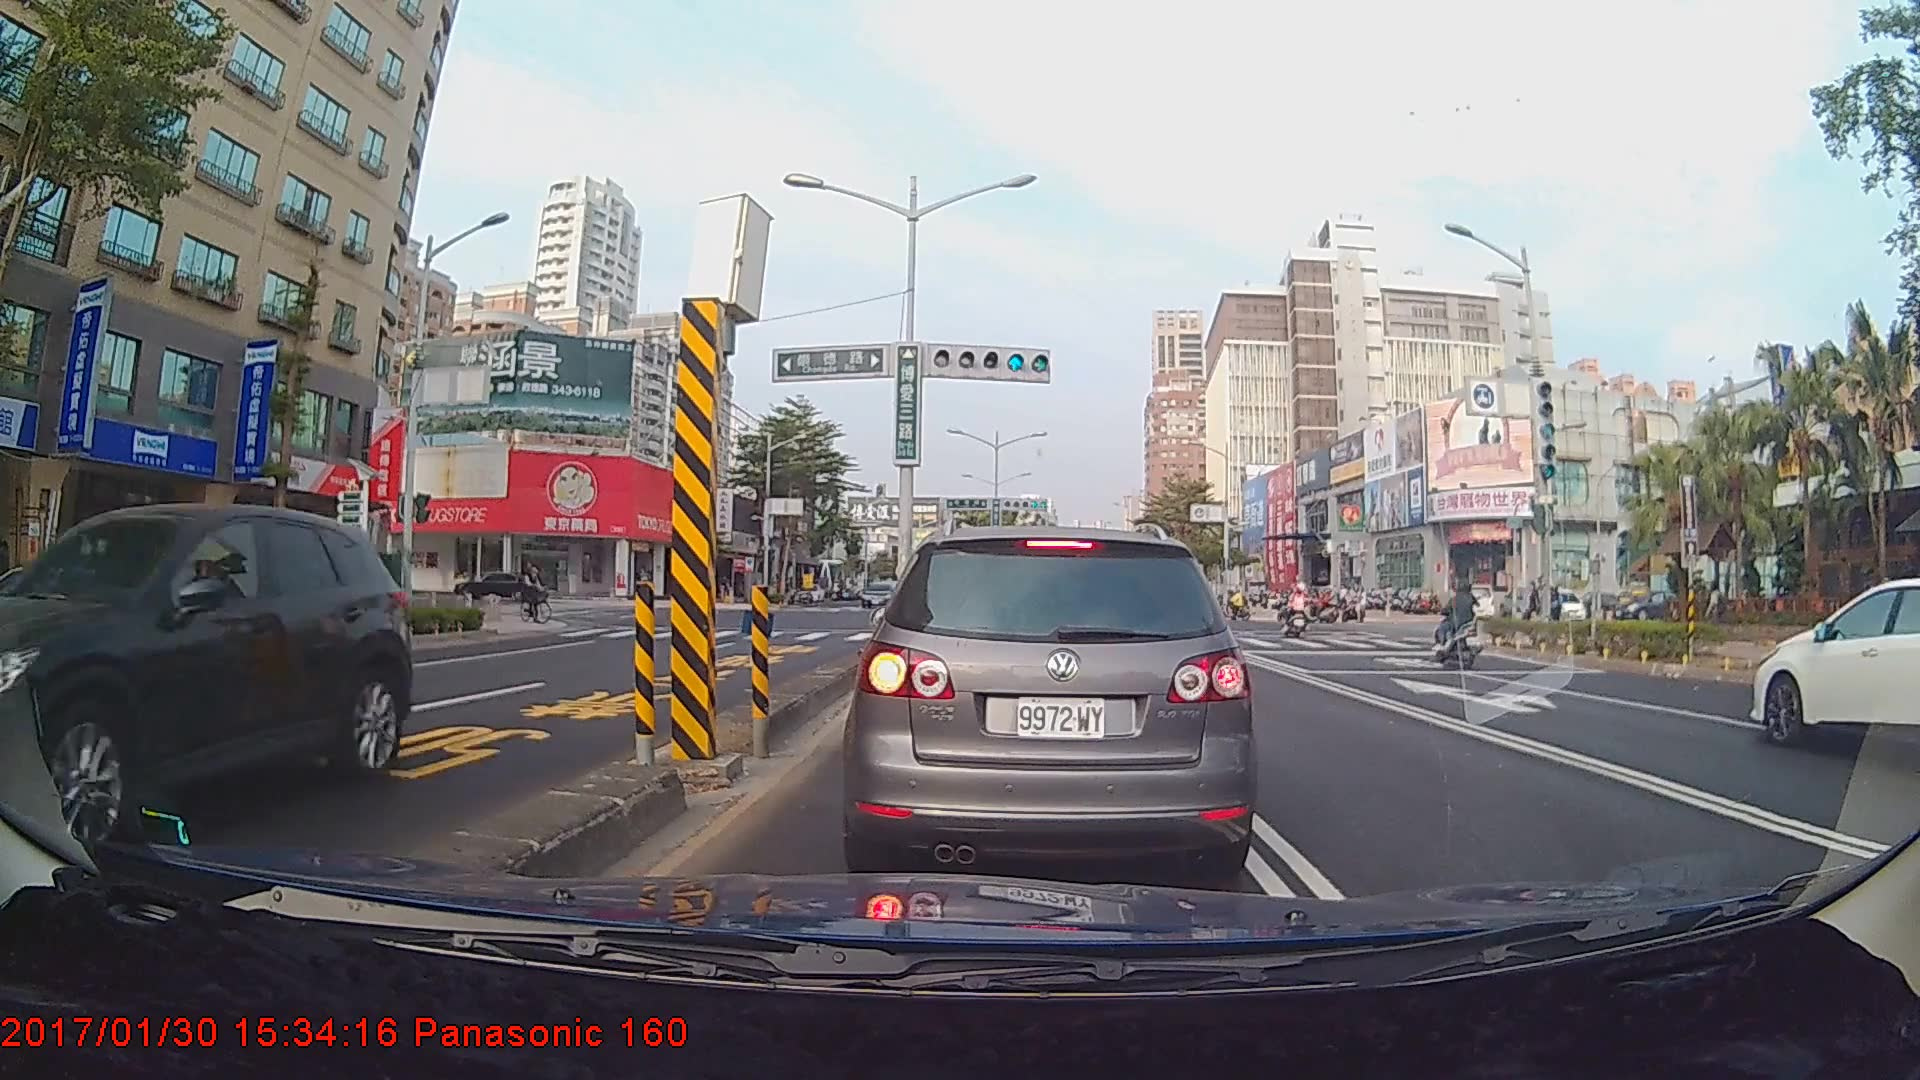pedestrian: (1706, 582, 1728, 642)
rider: (1433, 580, 1491, 668), (518, 559, 561, 629), (1282, 581, 1313, 643), (1449, 582, 1479, 646)
vehicle: (0, 502, 414, 850), (852, 522, 1248, 882), (1750, 576, 1920, 756), (452, 568, 547, 601), (858, 581, 897, 608)
